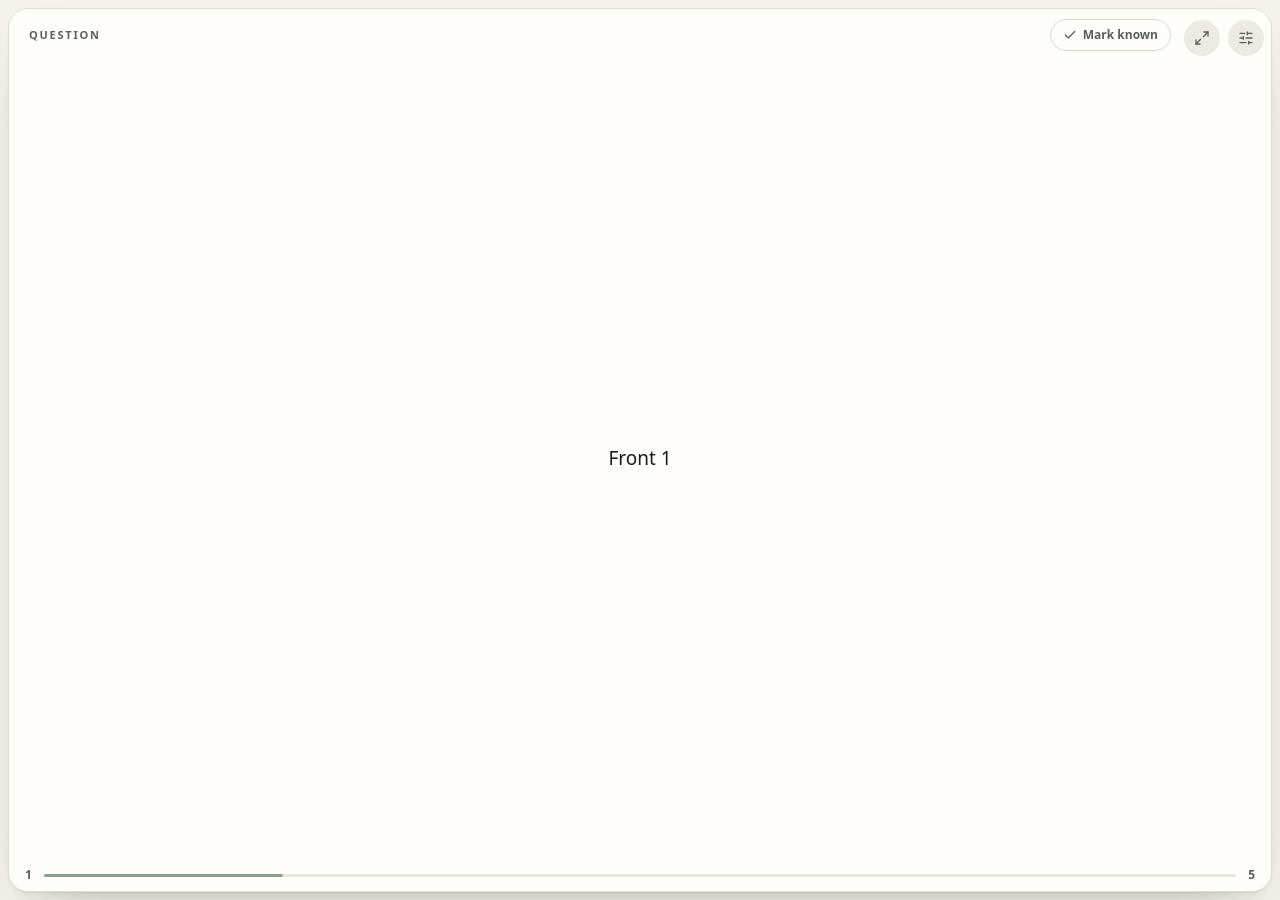
Test case: running from the Home Screen › is detected for messaging only: no Home Screen offer, a note about separate storage
Click the button named "Full screen" at (1202, 38), box [1180,16,1224,60]
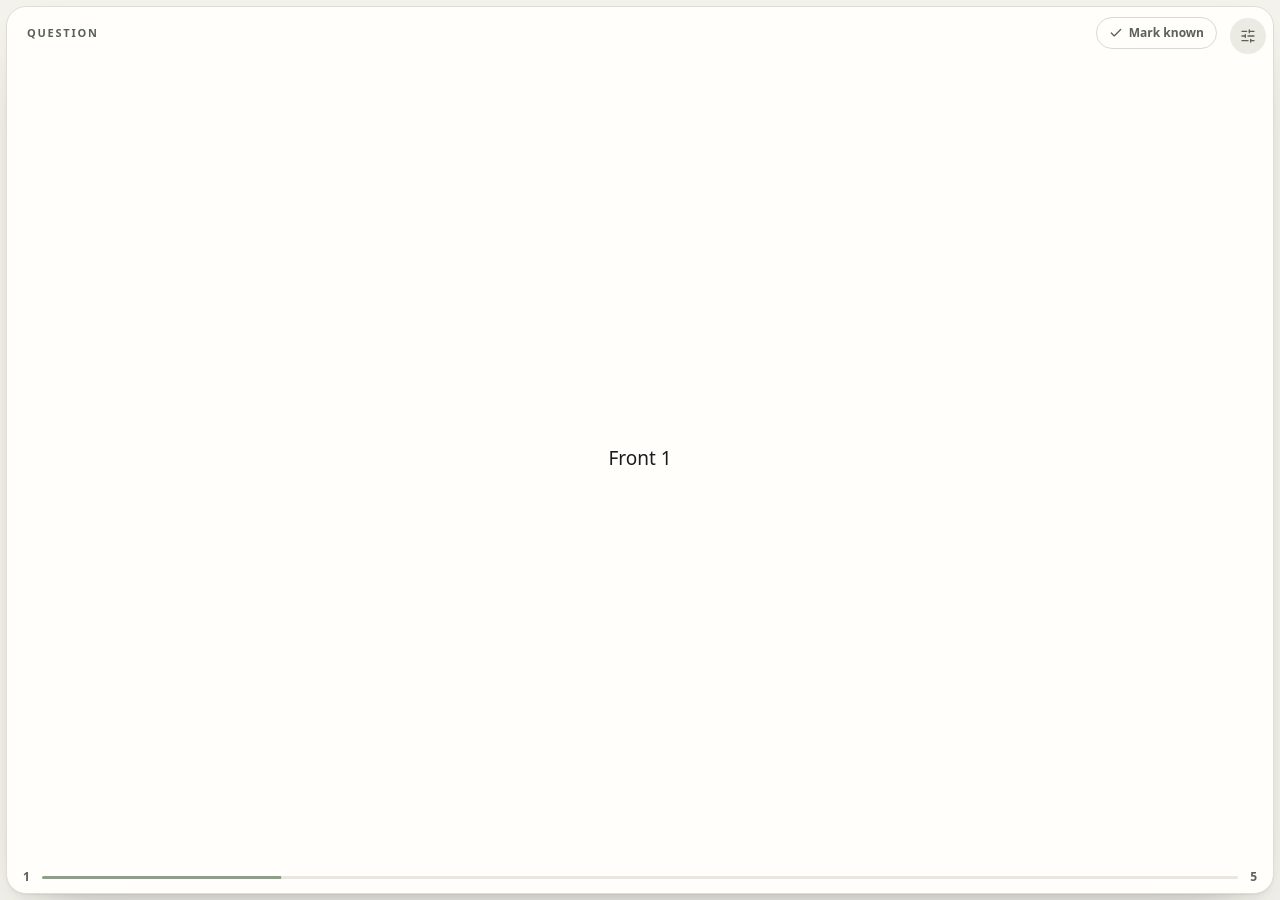
Click the button named "Study options" at (1248, 36), box [1226,14,1270,58]
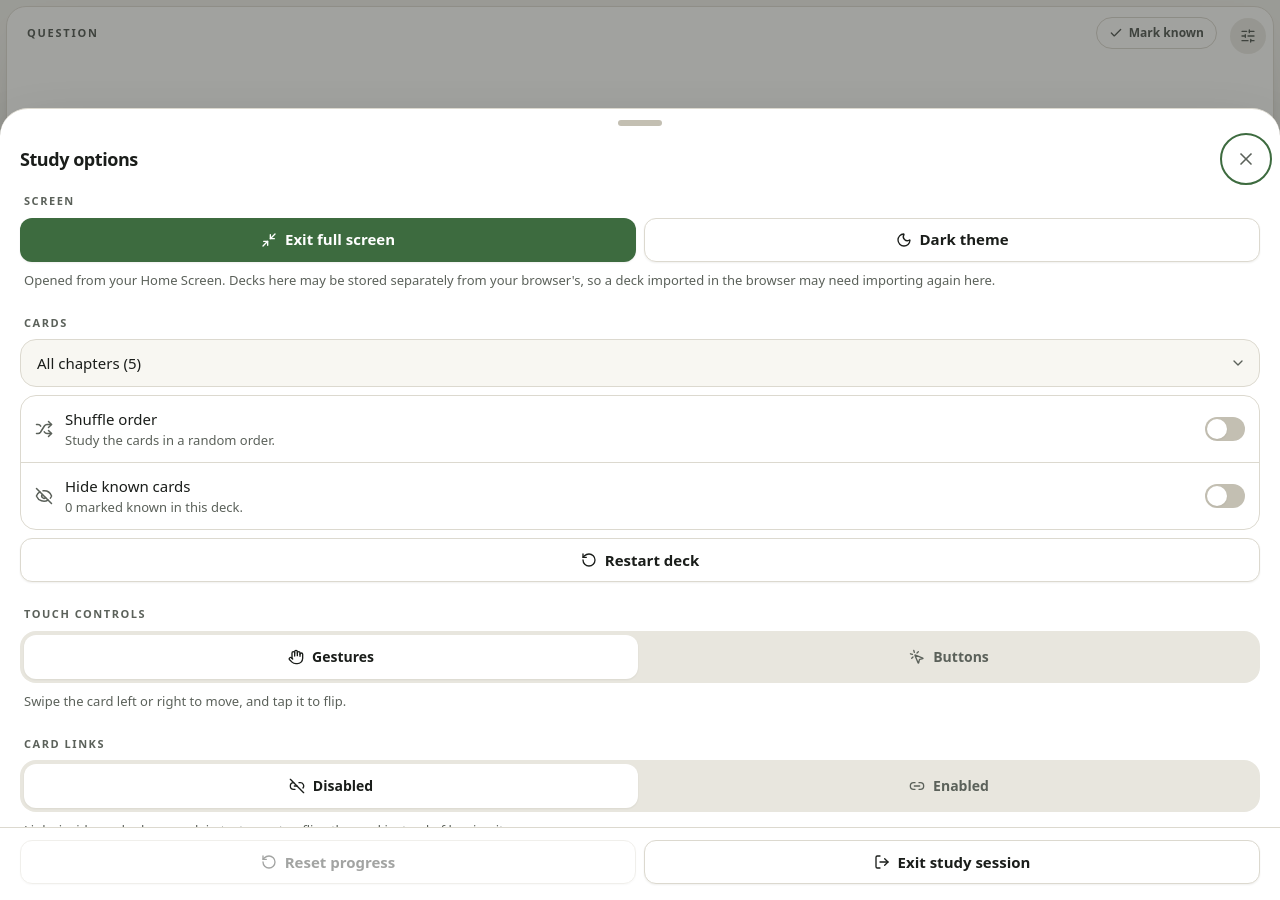
Now the dialog "Study options" shows "Opened from your Home Screen", box [24,270,995,288]
Now the element named "Card links" is shown, box [20,760,1260,812]
